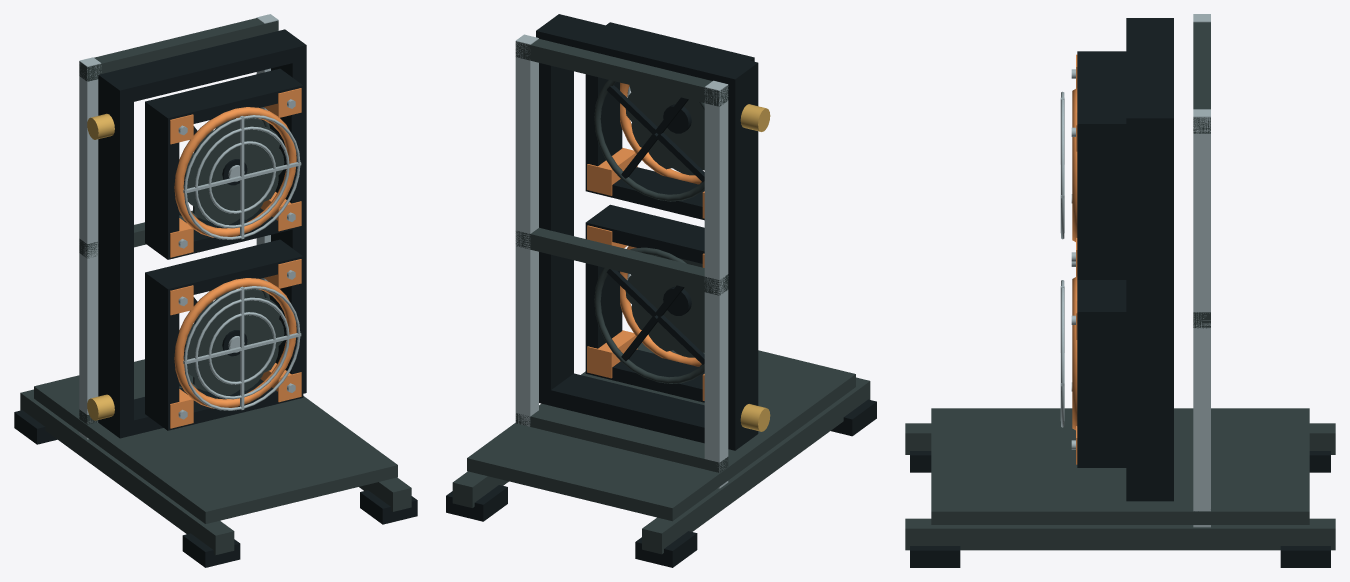
The model's file is cooling-air.glb.
3 views of the same model, side by side, from view 1: azimuth 30°, elevation 25°; view 2: azimuth 150°, elevation 25°; view 3: azimuth 270°, elevation 25° (orthographic). The views are drawn at different scales.
Parts seen in each view (by area): view 1: Anodized graphite (×3), Rubber and ABS (×4), Brushed aluminium (×3), Industrial orange (×2), Contacts; view 2: Rubber and ABS (×6), Anodized graphite (×3), Brushed aluminium, Industrial orange (×2), fan-industrial-140 (×2), Contacts; view 3: Anodized graphite, Rubber and ABS (×4), Brushed aluminium (×3), Industrial orange (×2).
Part boxes in pixels (<box>): Anodized graphite (×3): <box>20,18,411,554</box>; Rubber and ABS (×4): <box>14,29,417,567</box>; Brushed aluminium (×3): <box>79,14,301,439</box>; Industrial orange (×2): <box>170,88,301,428</box>; Contacts: <box>87,113,114,420</box>; Rubber and ABS (×6): <box>446,14,876,567</box>; Anodized graphite (×3): <box>452,39,870,554</box>; Brushed aluminium: <box>515,34,728,488</box>; Industrial orange (×2): <box>587,82,704,400</box>; fan-industrial-140 (×2): <box>594,80,704,383</box>; Contacts: <box>740,104,770,431</box>; Anodized graphite: <box>905,22,1335,550</box>; Rubber and ABS (×4): <box>910,18,1330,567</box>; Brushed aluminium (×3): <box>1060,14,1210,527</box>; Industrial orange (×2): <box>1072,54,1077,464</box>.
Size of the model in its own units: 1.85 by 3.32 by 2.9.
